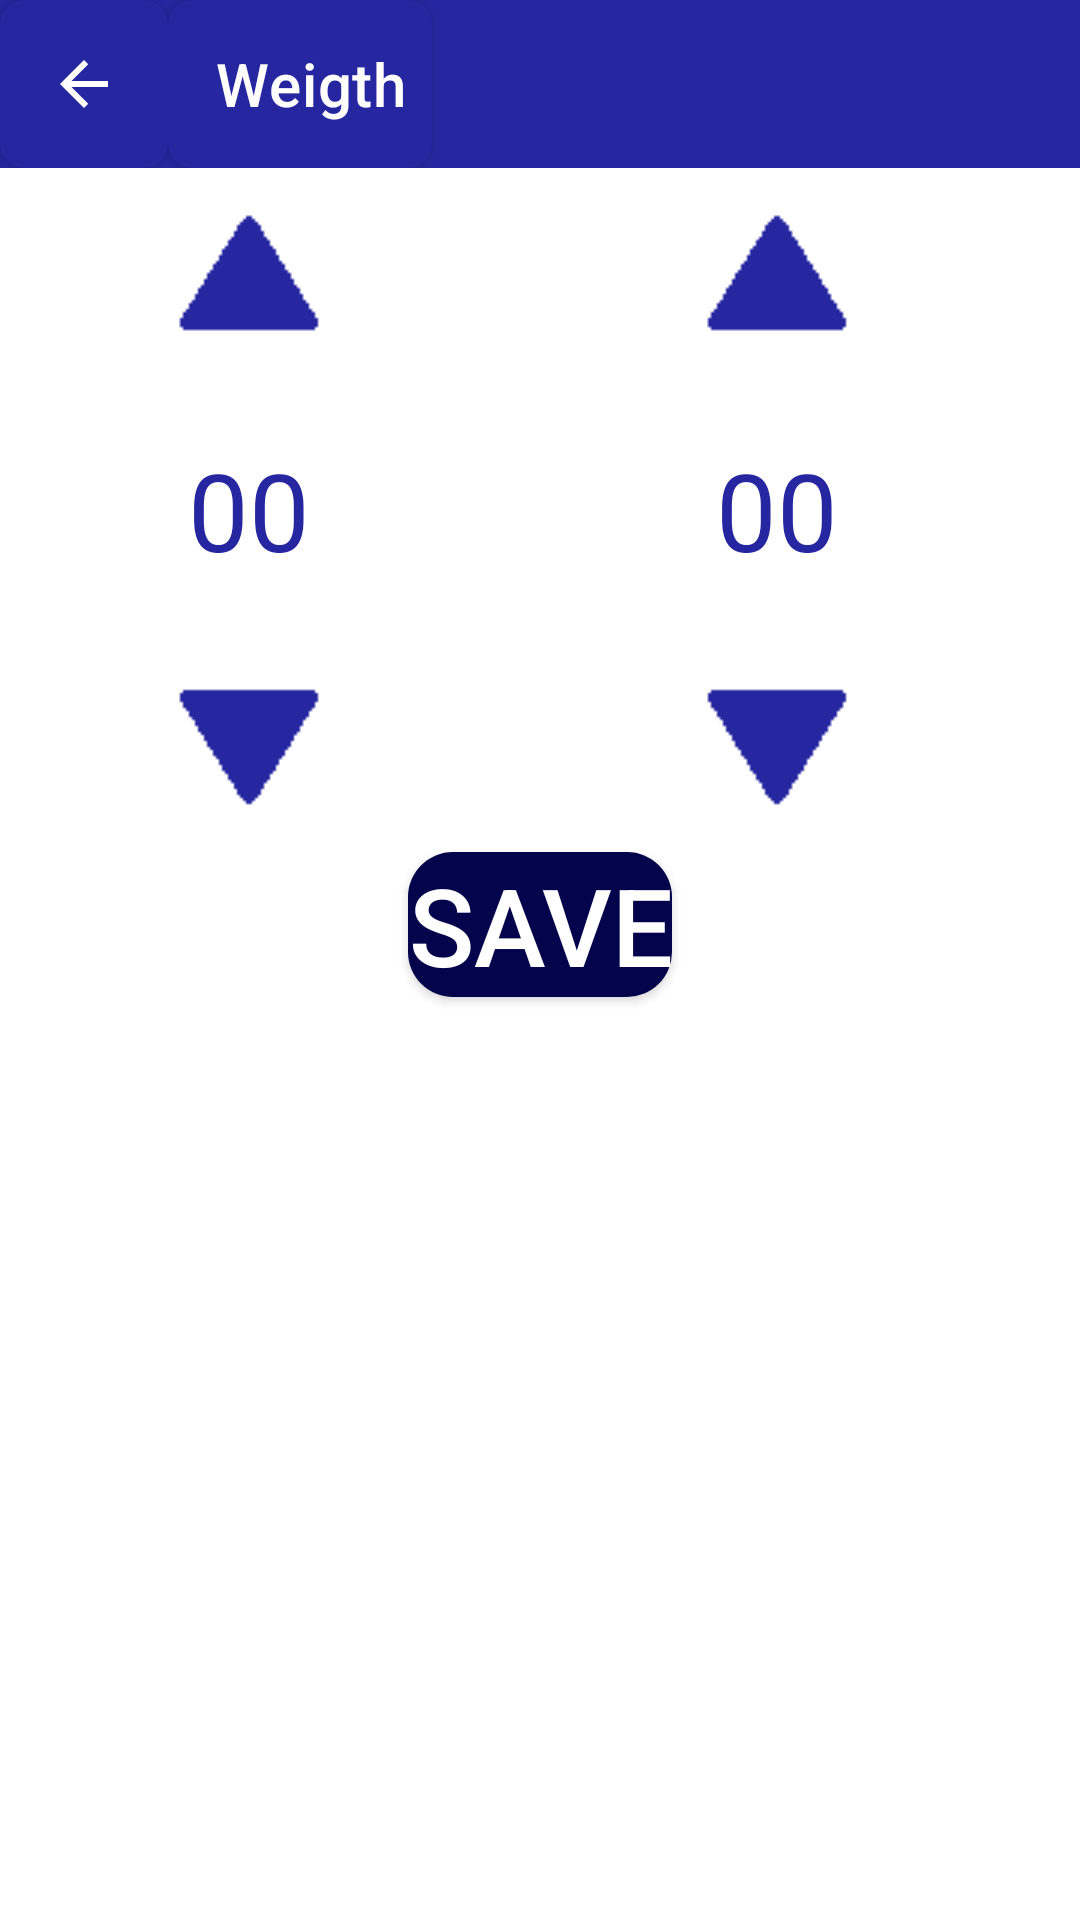

Icons on this 1080px×1920px Android screen, each with its box as bbox=(x1, y1, x2, y2):
down: bbox=(179, 689, 319, 805), bbox=(707, 689, 847, 805)
